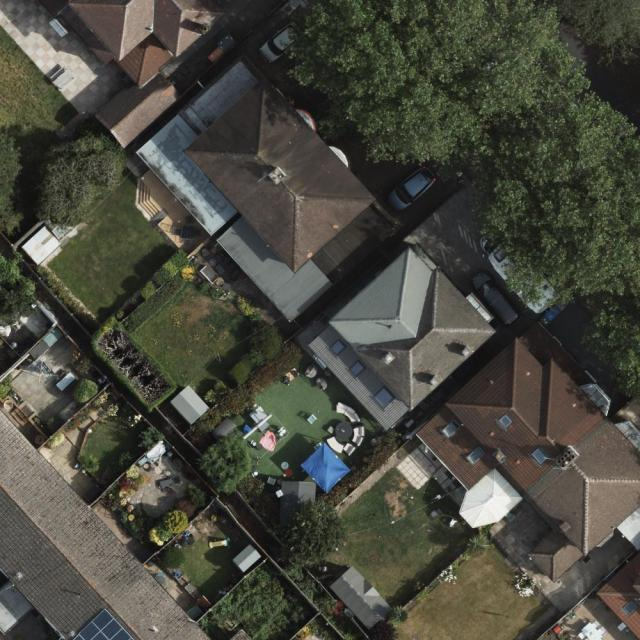roof: (414, 320, 640, 640), (139, 59, 397, 324), (0, 407, 212, 640), (302, 246, 499, 433), (49, 0, 227, 152)
skylight: (371, 384, 398, 411), (327, 337, 347, 358), (441, 420, 461, 440), (466, 446, 486, 466), (531, 446, 551, 466), (347, 361, 368, 380), (620, 597, 639, 618), (497, 412, 515, 430)
solar: (72, 606, 138, 639)
